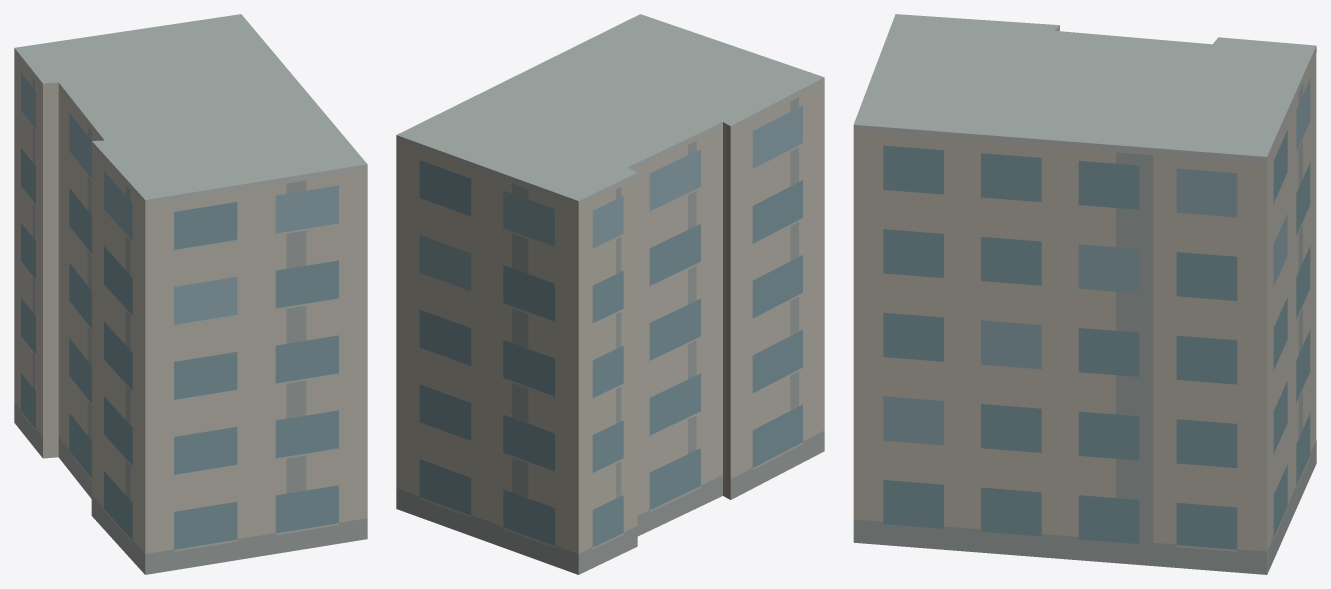
File: survey-upis-32885091.glb
3 renders of one model, left to right at view 1: azimuth 30°, elevation 25°; view 2: azimuth 150°, elevation 25°; view 3: azimuth 270°, elevation 25°, orthographic. The views are drawn at different scales.
Visible parts, largest first — view 1: survey-upis-32885091.tmp; view 2: survey-upis-32885091.tmp; view 3: survey-upis-32885091.tmp.
Part boxes in pixels (x1,y1,x2,y2): survey-upis-32885091.tmp: (14, 14, 367, 574); survey-upis-32885091.tmp: (396, 14, 824, 574); survey-upis-32885091.tmp: (853, 14, 1316, 574).
Bounding box in the file's own units: 10.48 × 14.27 × 14.34.
